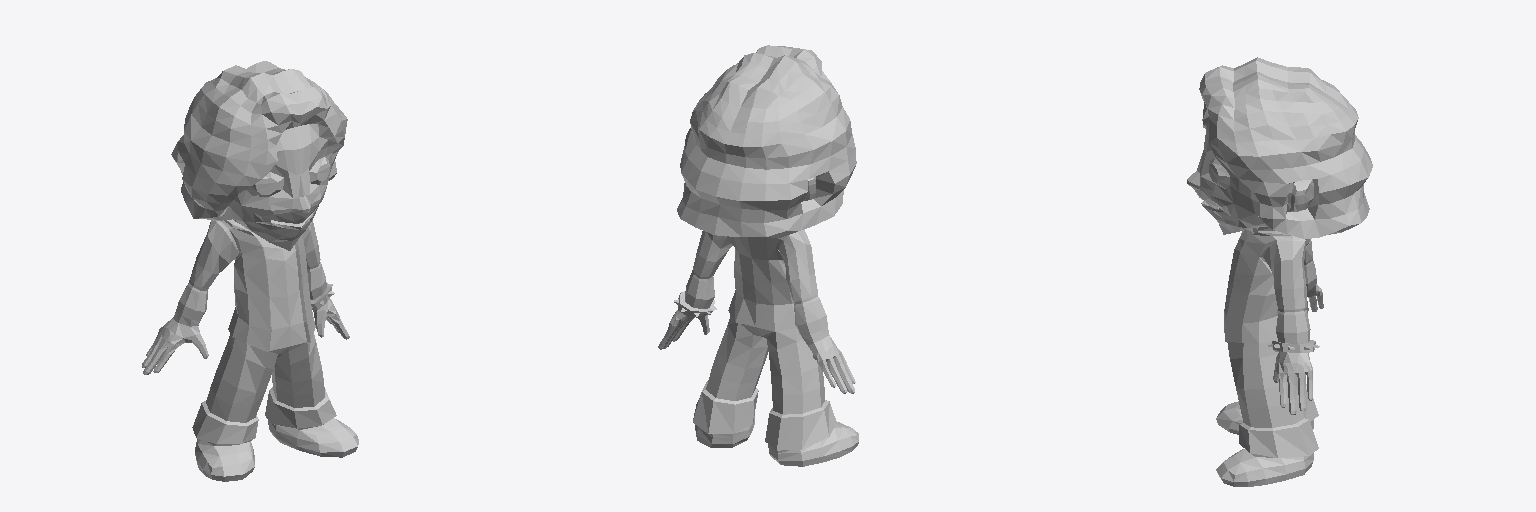
The model's file is rockero_rigging_000066.obj.
3 renders of one model, left to right at view 1: azimuth 30°, elevation 25°; view 2: azimuth 150°, elevation 25°; view 3: azimuth 270°, elevation 25°, orthographic.
Visible parts, largest first — view 1: Cylinder.001; view 2: Cylinder.001; view 3: Cylinder.001.
Boxes of the visible parts, <box> form: Cylinder.001: <box>142,61,358,481</box>; Cylinder.001: <box>658,45,858,466</box>; Cylinder.001: <box>1187,57,1372,486</box>.
Bounding box in the file's own units: 2.6 × 4.81 × 2.11.